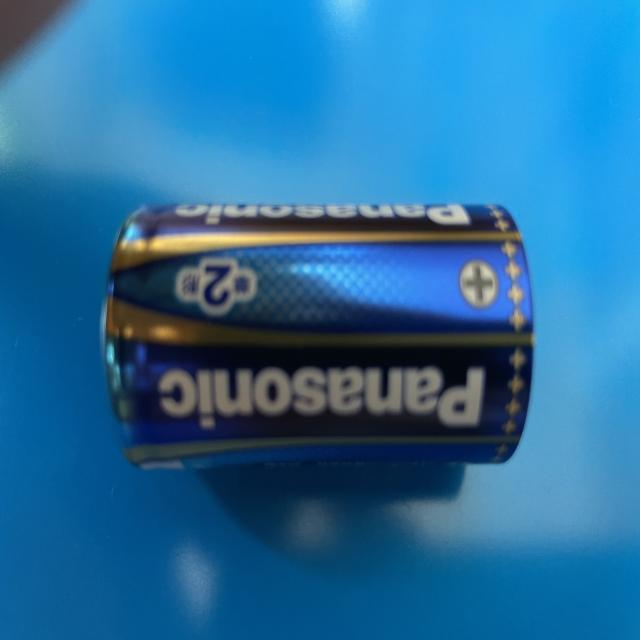hazardous waste: (97, 202, 539, 472)
